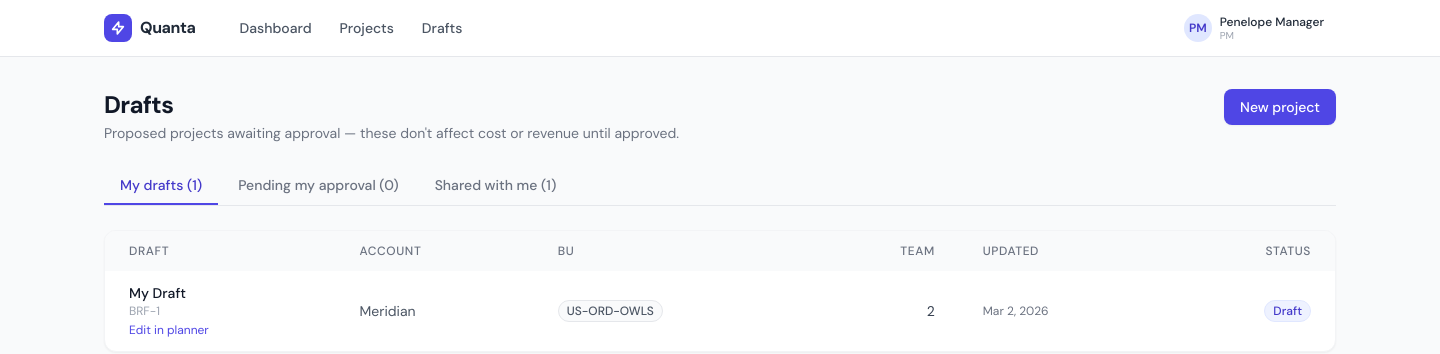
Scenario: DraftsPage › splits drafts into My / Pending / Shared tabs with counts
The image size is (1440, 354).
Expected: the tab "My drafts (1)" is shown, [104,167,218,205]
Expected: the tab "Pending my approval (0)" is shown, [222,167,415,205]
Switch to "Shared with me": the shared draft appears.
Click the tab "Shared with me (1)": [496, 186] box [419,167,572,205]
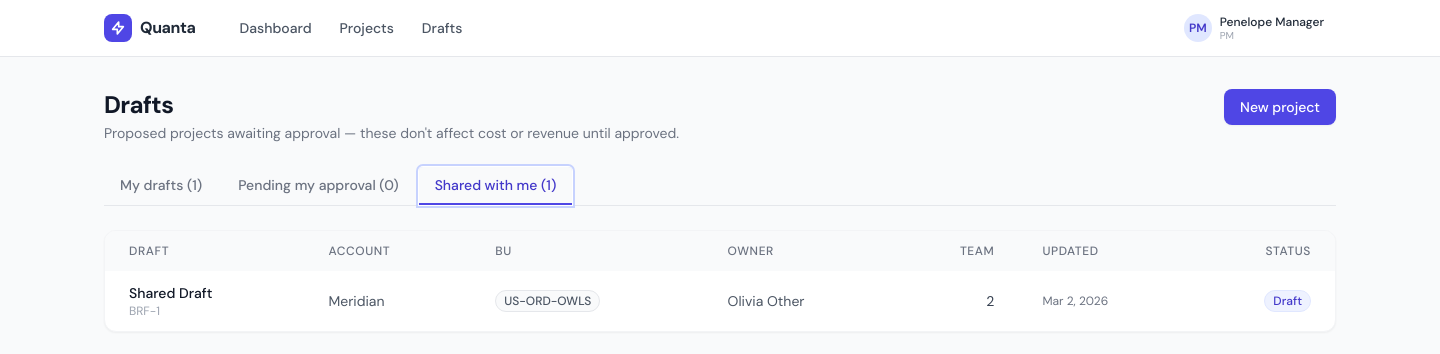
Expected: the link "Shared Draft" is shown, [129,284,212,302]
